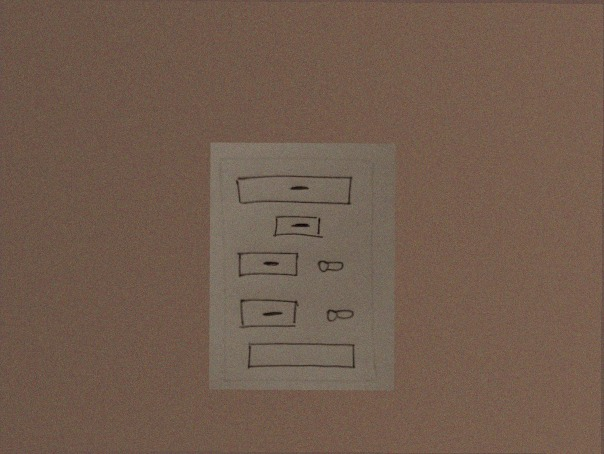button: (233, 173, 355, 208), (237, 298, 299, 331), (236, 250, 301, 280), (270, 214, 326, 241)
switch: (323, 305, 355, 326), (317, 258, 347, 277)
text_input: (245, 340, 359, 374)
